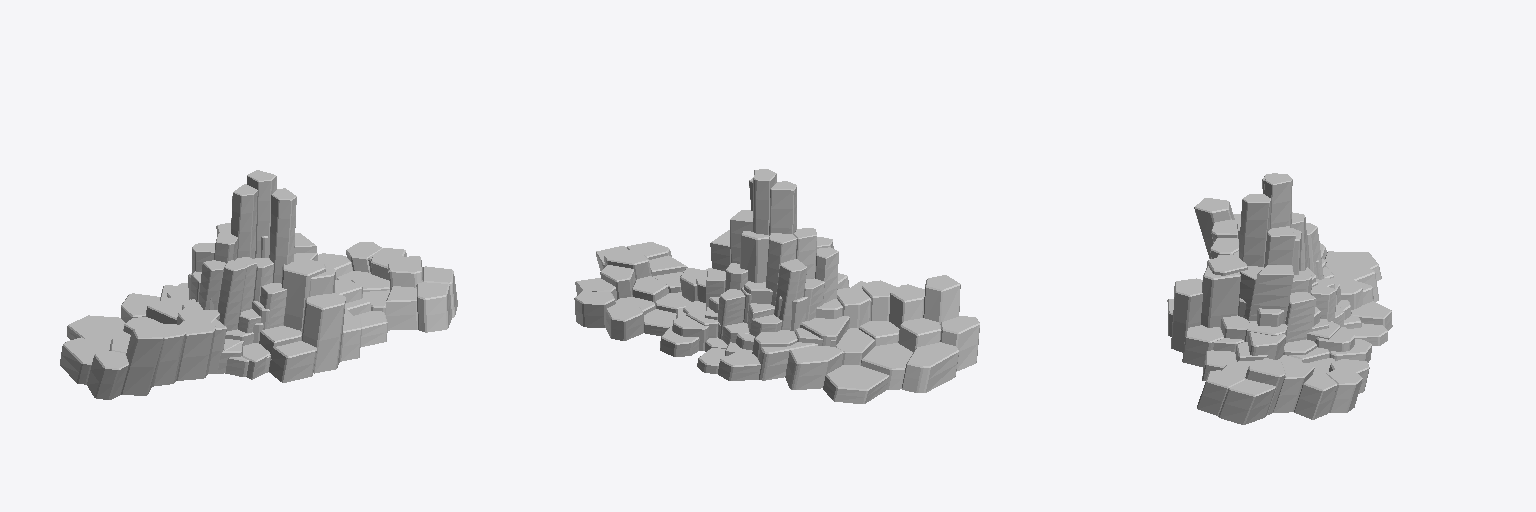
File: Small pillars.obj
3 views of the same model, side by side, from view 1: azimuth 30°, elevation 25°; view 2: azimuth 150°, elevation 25°; view 3: azimuth 270°, elevation 25° (orthographic).
Visible parts, largest first — view 1: Ground_wall_cover_pillars, Tall_Small_pillars, Ground_cover_pillars; view 2: Ground_wall_cover_pillars, Tall_Small_pillars, Ground_cover_pillars; view 3: Ground_wall_cover_pillars, Tall_Small_pillars, Ground_cover_pillars.
Part boxes in pixels (x1,y1,x2,y2): Ground_wall_cover_pillars: (60, 236, 457, 399); Tall_Small_pillars: (191, 170, 317, 332); Ground_cover_pillars: (147, 257, 362, 382); Ground_wall_cover_pillars: (574, 231, 979, 403); Tall_Small_pillars: (705, 169, 838, 344); Ground_cover_pillars: (672, 268, 871, 380); Ground_wall_cover_pillars: (1194, 198, 1381, 424); Tall_Small_pillars: (1237, 173, 1343, 342); Ground_cover_pillars: (1167, 254, 1392, 367).
Bounding box in the file's own units: 1132 × 466 × 597.